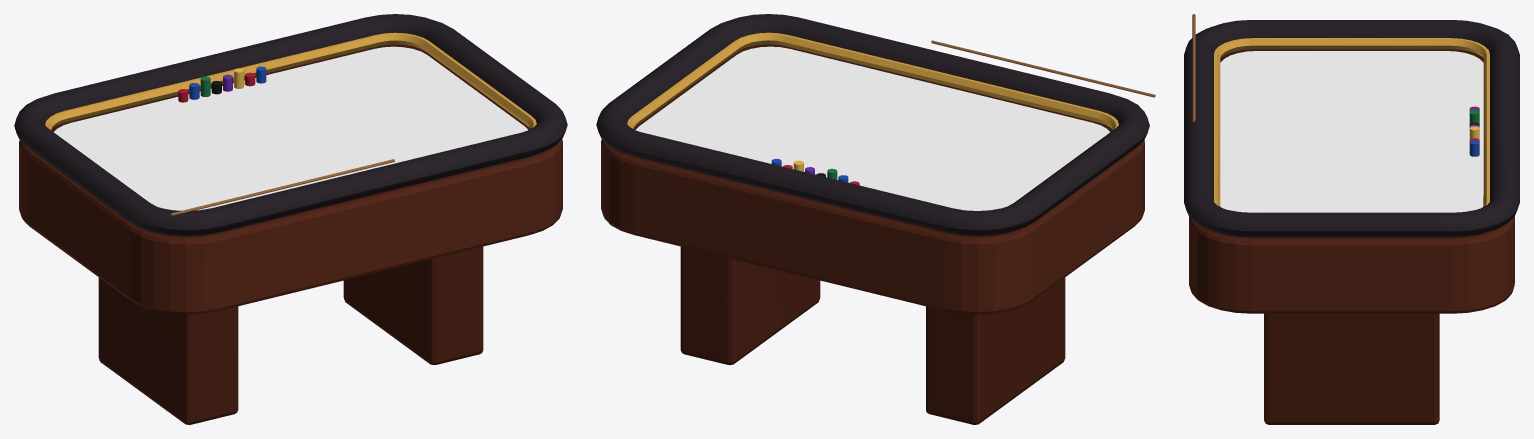
Rendered from table-craps.glb.
3 renders of one model, left to right at view 1: azimuth 30°, elevation 25°; view 2: azimuth 150°, elevation 25°; view 3: azimuth 270°, elevation 25°, orthographic. The views are drawn at different scales.
Parts seen in each view (by area): view 1: table-craps_lod0; view 2: table-craps_lod0; view 3: table-craps_lod0.
Part boxes in pixels (left/top/right/bottom): table-craps_lod0: left=14, top=14, right=567, bottom=424; table-craps_lod0: left=596, top=14, right=1155, bottom=424; table-craps_lod0: left=1184, top=14, right=1519, bottom=424.
Size of what is drawn, in the model's own units: 1.94 by 1.08 by 1.34.
